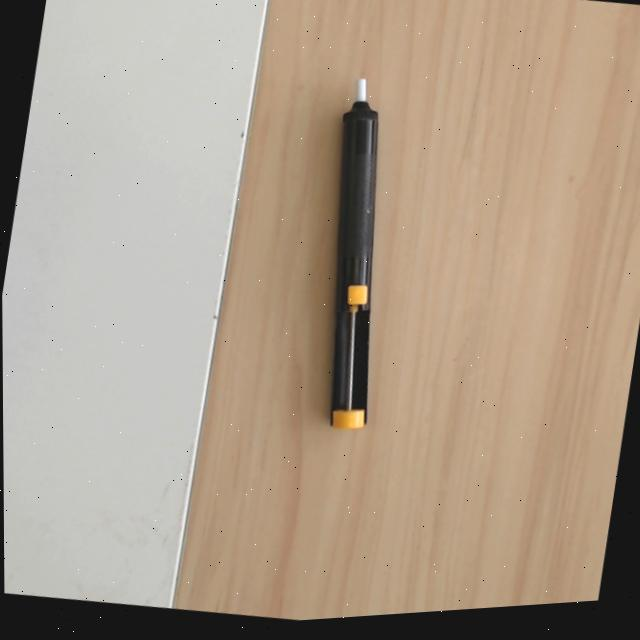Desoldering-Pump: (329, 77, 381, 430)
